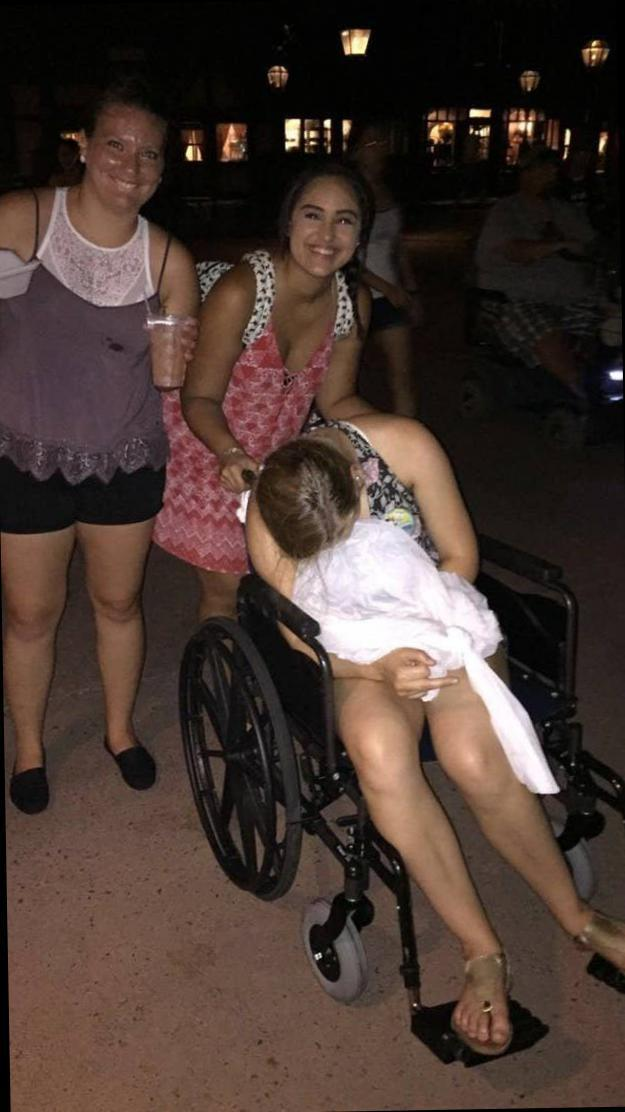Drunk: (93, 103, 161, 207), (298, 166, 359, 273)
